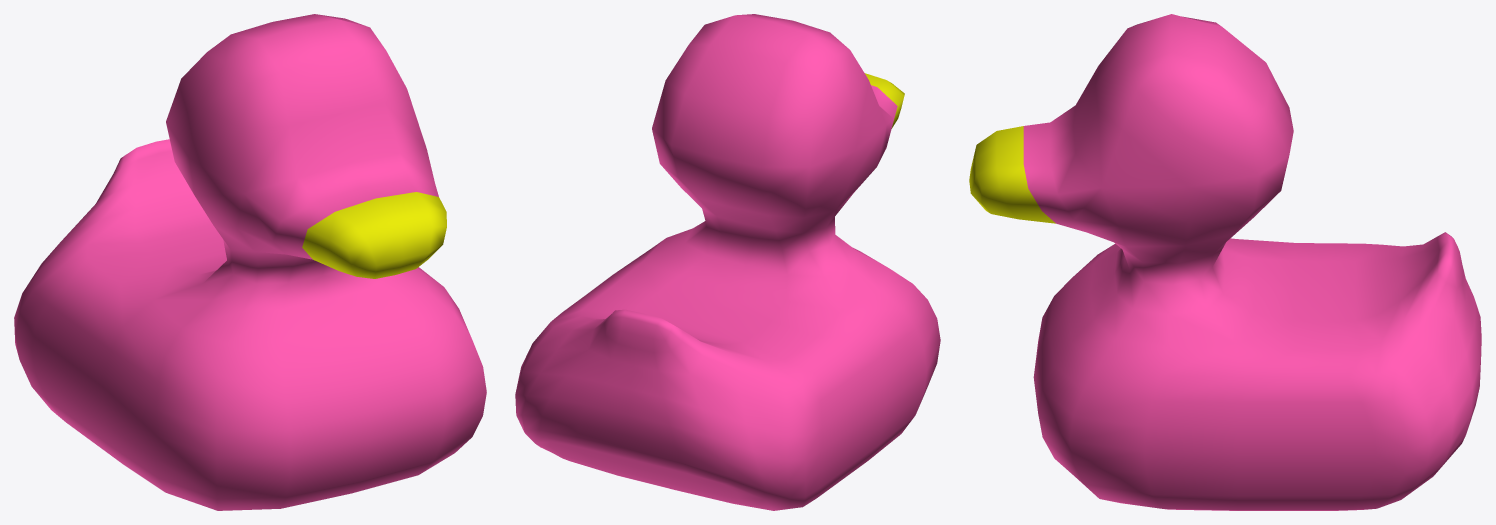
Rendered from nina.gltf.
3 views of the same model, side by side, from view 1: azimuth 30°, elevation 25°; view 2: azimuth 150°, elevation 25°; view 3: azimuth 270°, elevation 25° (orthographic). The views are drawn at different scales.
Parts seen in each view (by area): view 1: Cube; view 2: Cube; view 3: Cube.
Part boxes in pixels (x1,y1,x2,y2): Cube: (14,14,486,510); Cube: (515,14,940,510); Cube: (969,14,1481,510).
Bounding box in the file's own units: 0.1436 × 0.1901 × 0.2041.
